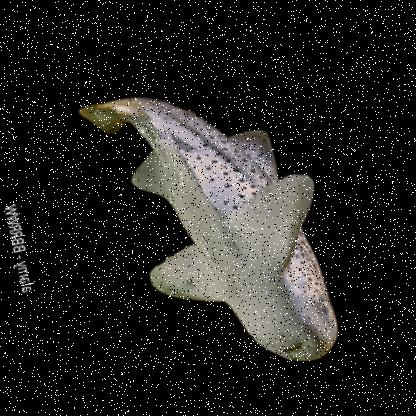zebra_shark: (73, 53, 361, 403)
